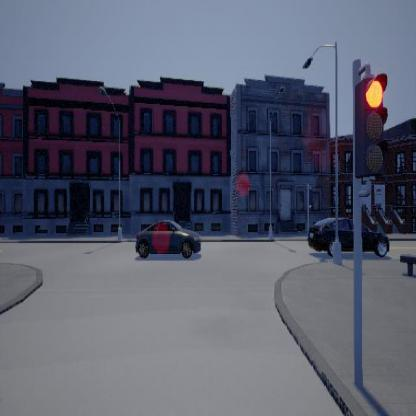traffic_light_red: (354, 61, 388, 196)
vehicle: (306, 212, 390, 257), (134, 219, 201, 257)
